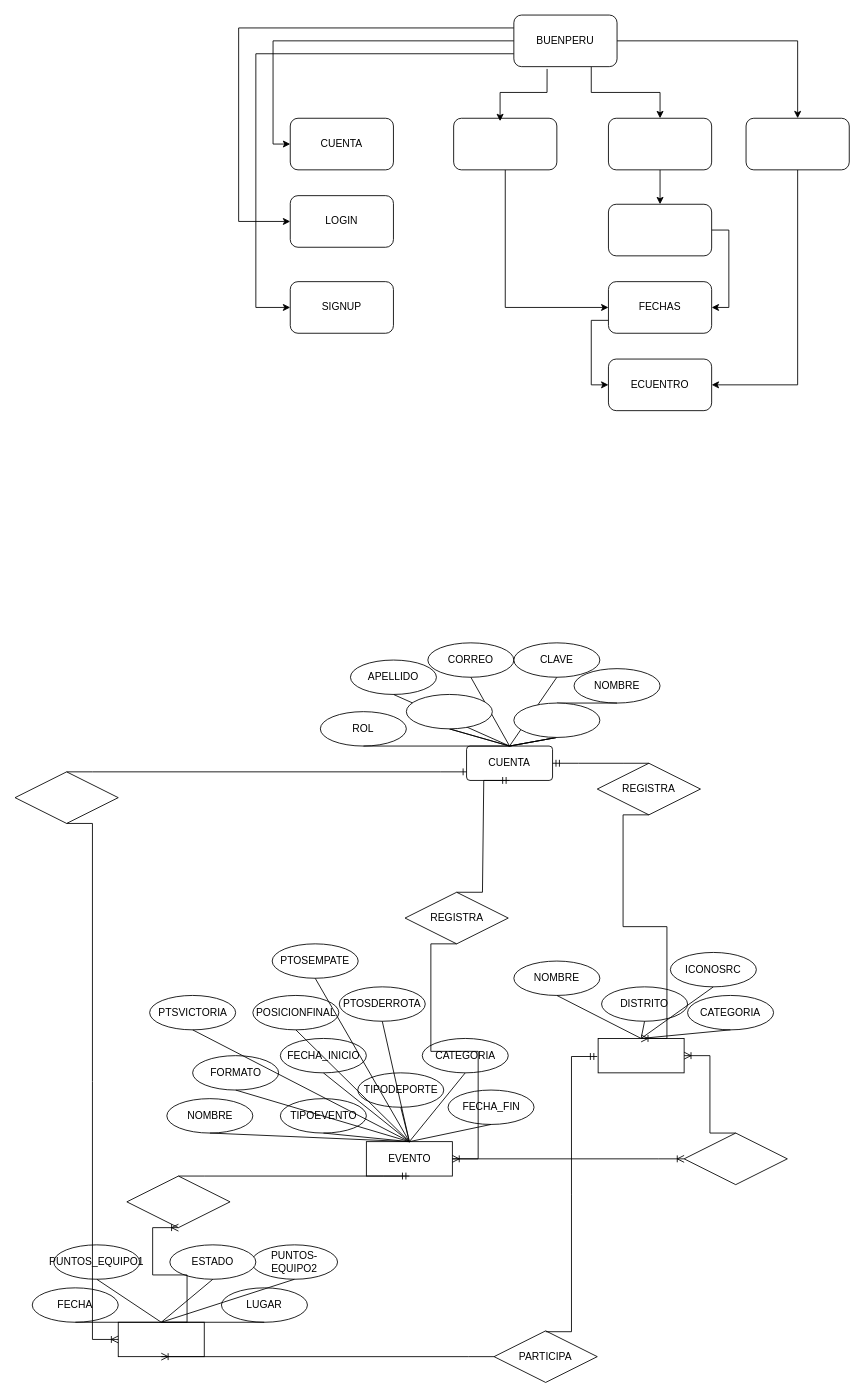
This 864x1398 diagram has some shape labels left out. The shapes that lost their labels are listed below. From the top down, each one's centre as x and y in pixels, then its label:
pixel 505 143: TORNEOS
pixel 660 143: LIGAS
pixel 797 143: AMISTOSOS
pixel 660 229: TABLA DE PSICIONES
pixel 448 711: TELEFONO
pixel 556 719: DIRECCION
pixel 66 797: ARBITRA
pixel 640 1055: EQUIPO
pixel 735 1158: PARTICIPAN
pixel 178 1201: REALIZAN
pixel 160 1339: ENCUENTRO
